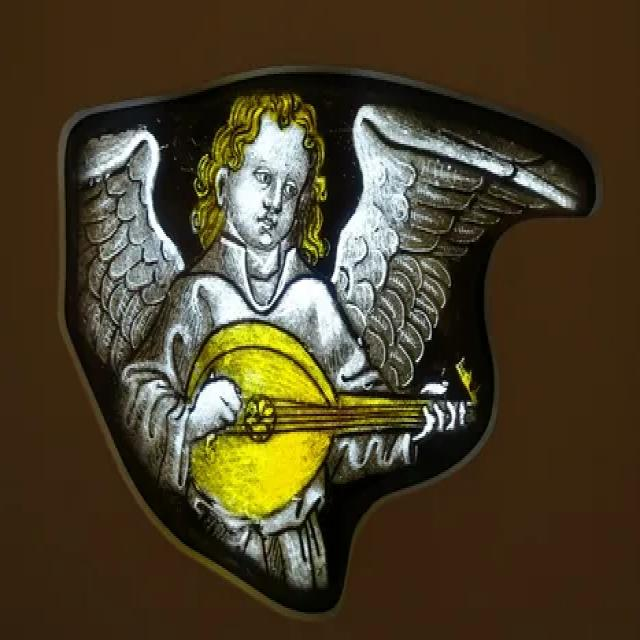angel: (40, 31, 598, 611)
